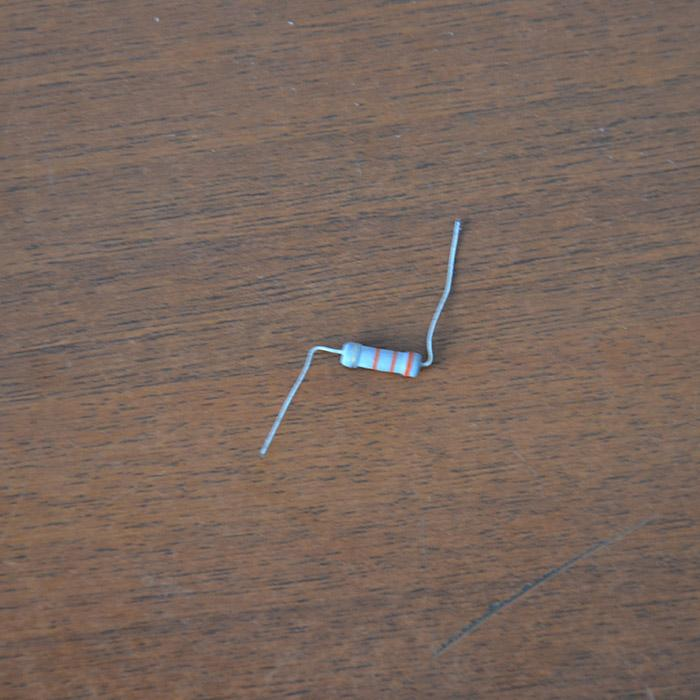resistor: (338, 340, 421, 378)
